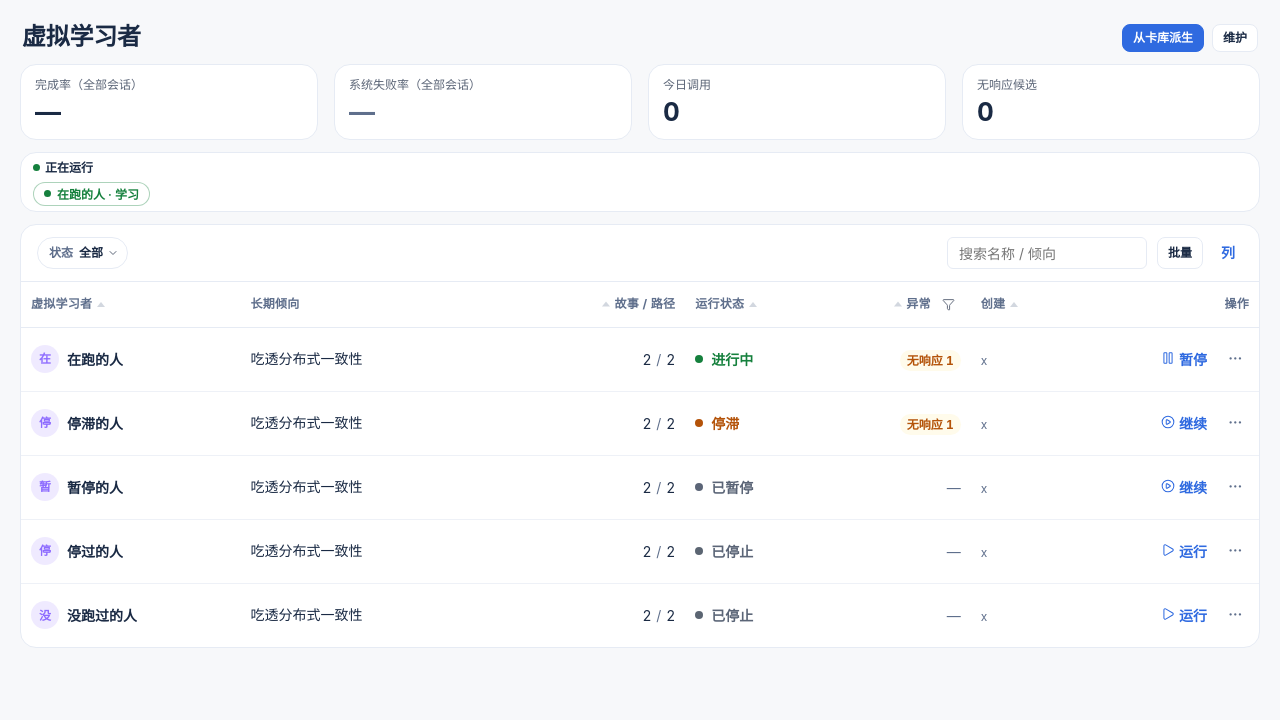
it: 虚拟学习者：运行状态列只回答在不在跑 › 行主操作随状态走：运行中→暂停、已暂停/停滞→继续、已停止→运行；终止不占行主位
Expected: the button with class "mk-link" reads "暂停", left=1155, top=344, right=1213, bottom=375
Expected: the button with class "mk-link" in the row of "已暂停" reads "继续", left=1155, top=472, right=1213, bottom=503
// 终止不可逆：只在 ⋯ 菜单里，不占行主位
What coordinates should you click on to do the following:
click the 2nd button with class "mk-menu__btn"
I would click on:
 (1235, 423)
Its box is left=1221, top=409, right=1249, bottom=437.
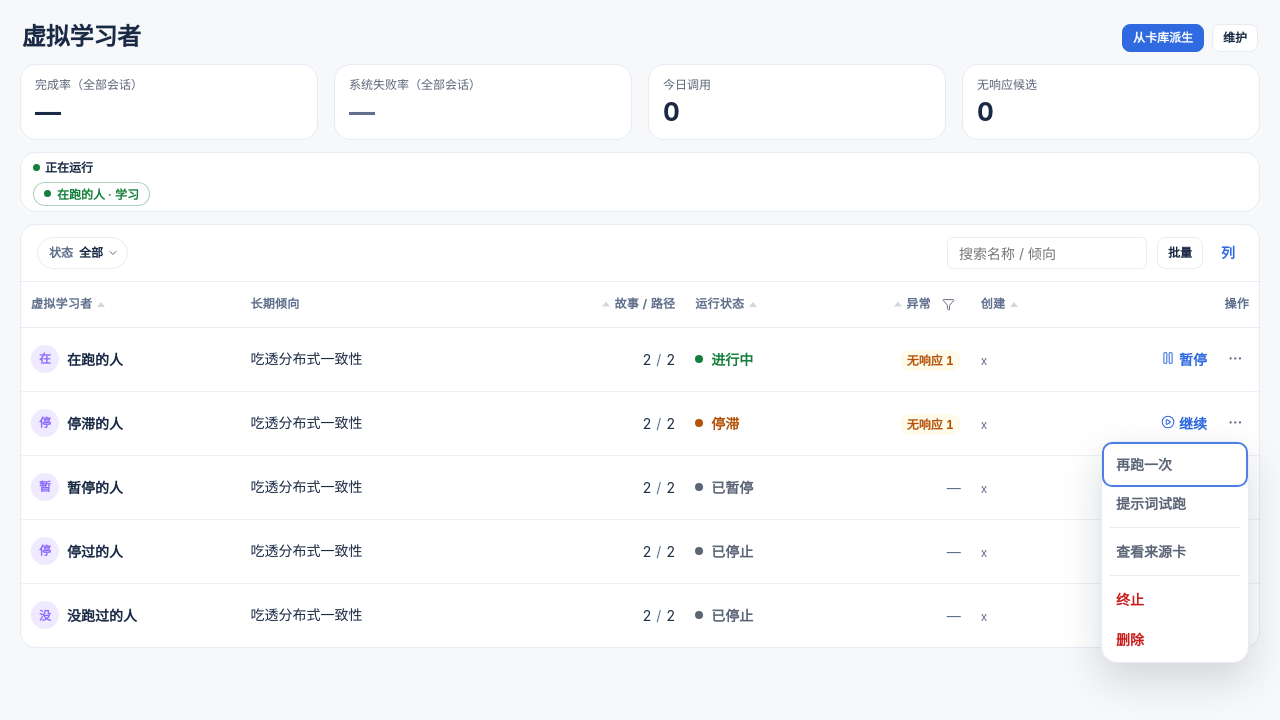
Now the menu item with class "mk-menu__item" reads "终止", box left=1106, top=582, right=1244, bottom=619
